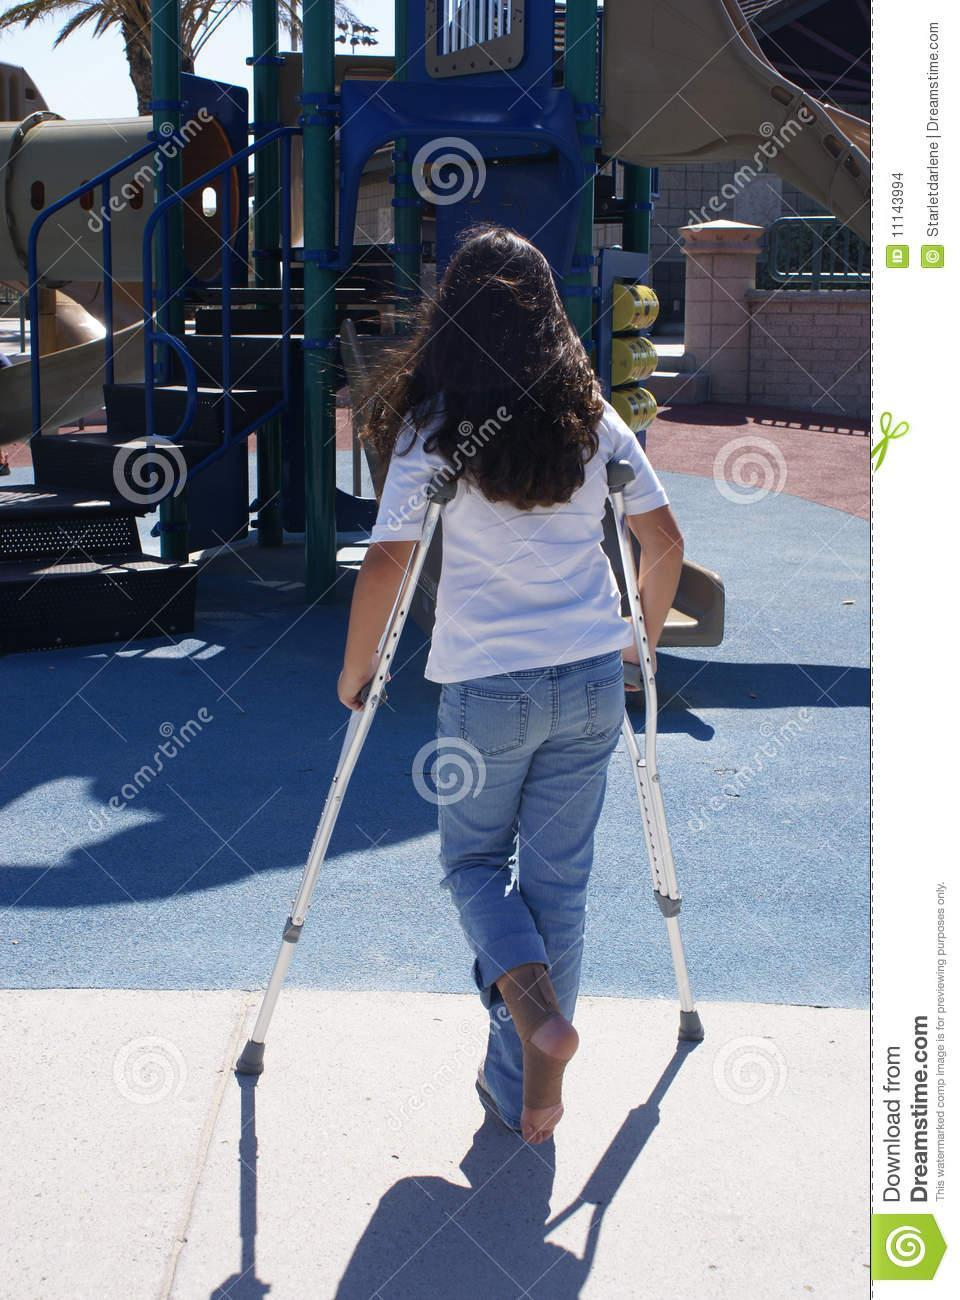crutches: (236, 230, 707, 1141)
